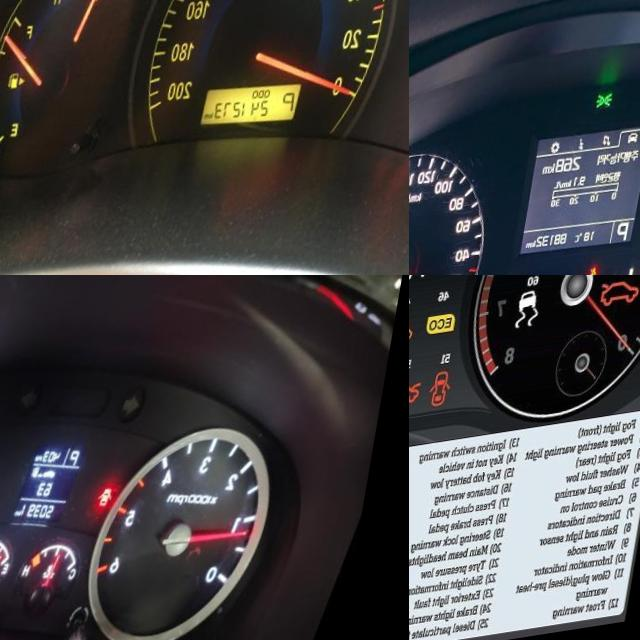Doors: (108, 497, 127, 518)
SideLamp: (603, 102, 621, 119)
